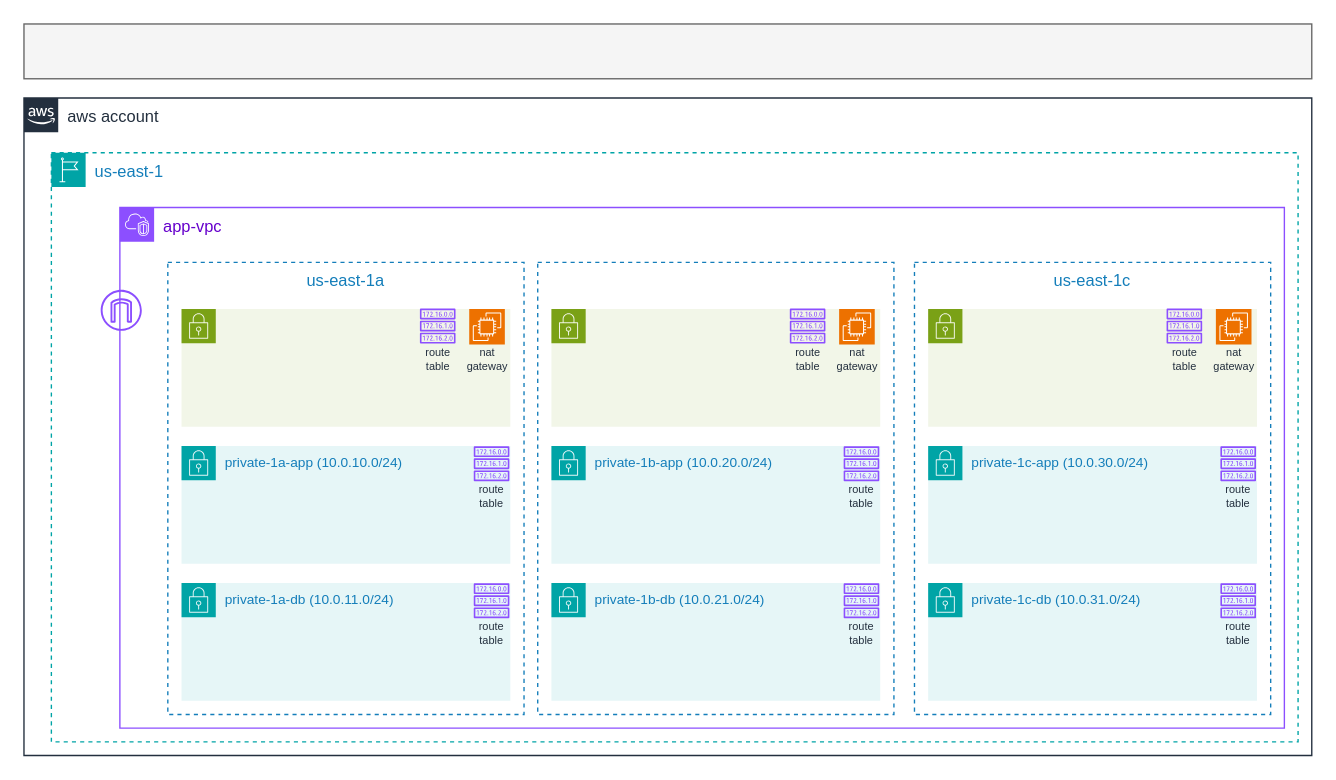
Image size: 1336x780. Some labels were removed from this diagram. The box of each missing label's shape, as (x1, y1, x2, y2) in pixels:
igw: (100, 289, 141, 330)
public-1a (10.0.1.0/24): (180, 308, 510, 427)
public-1b (10.0.2.0/24): (550, 308, 880, 427)
public-1c (10.0.3.0/24): (927, 308, 1257, 427)
terraform-three-layer-architecture-network: (23, 23, 1312, 79)
us-east-1b: (536, 261, 894, 714)
